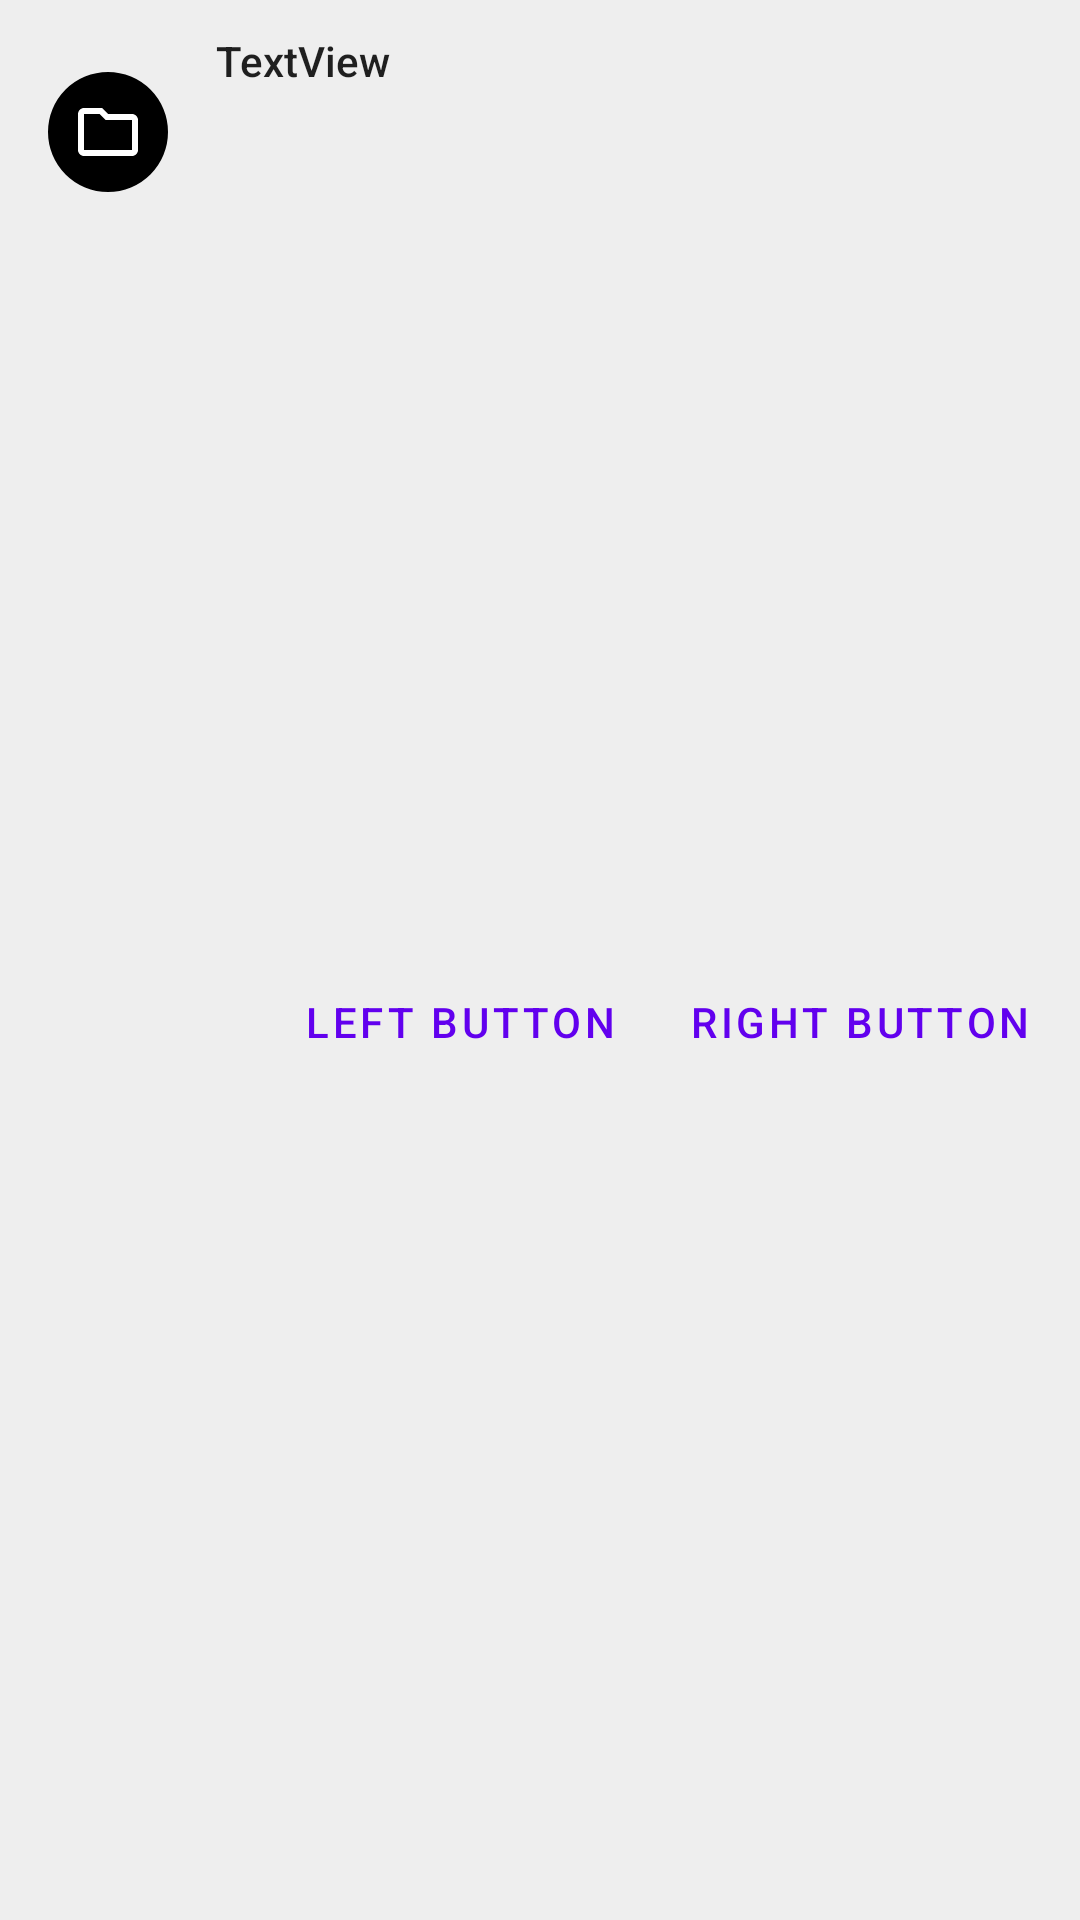

Screen size 1080*1920. Icon name, then its box in pixels as box(x1, y1, x2, y2):
folder: box(48, 72, 168, 192)
